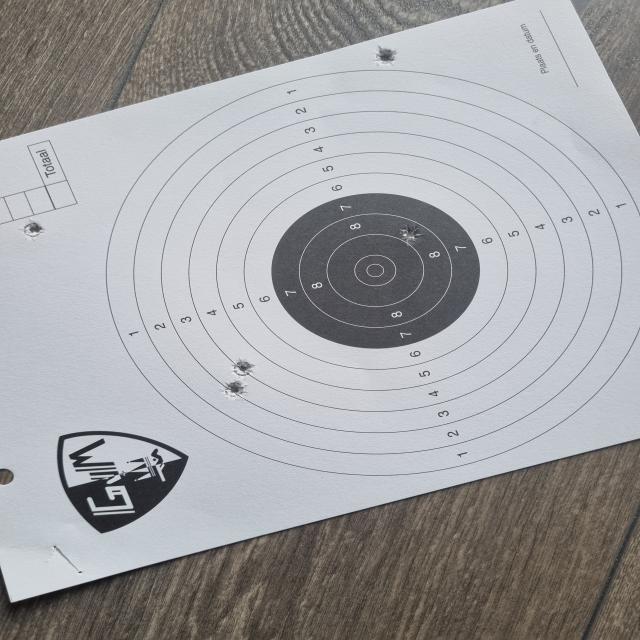0: (19, 220, 45, 241), (374, 45, 397, 66)
3: (220, 380, 248, 397)
4: (230, 359, 256, 379)
9: (398, 228, 422, 246)
Target: (101, 68, 640, 477)
black_contour: (272, 193, 480, 348)
